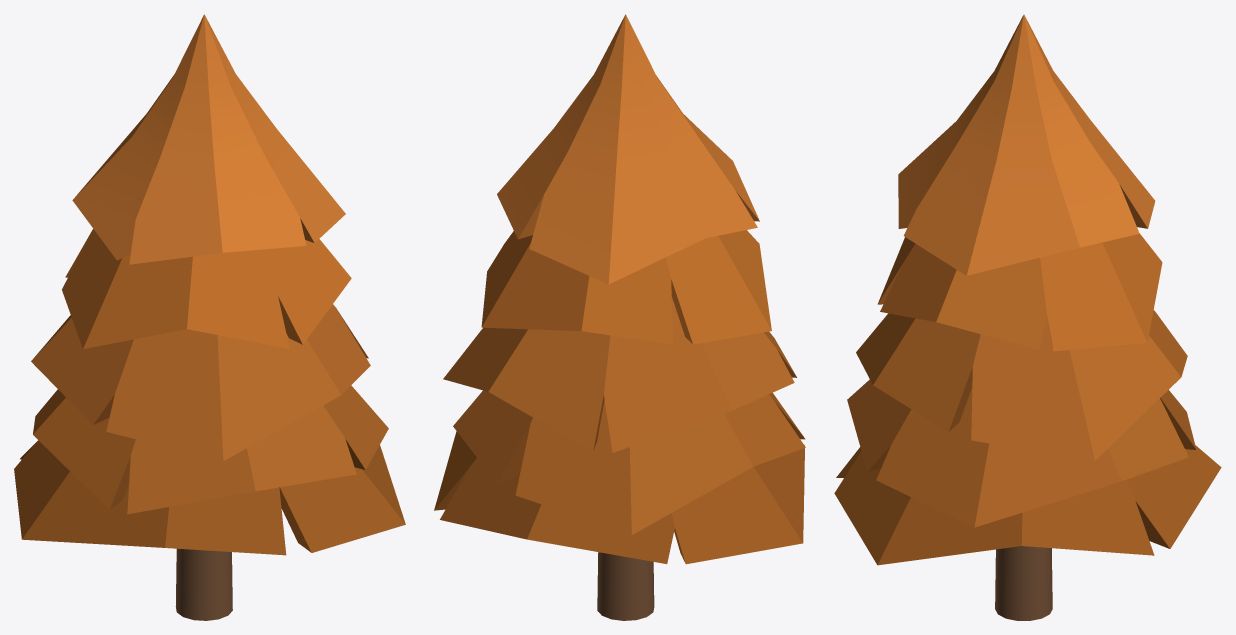
File: Spruce_Orange_Thick_3.fbx
The picture shows the model from 3 angles, left to right: view 1: azimuth 30°, elevation 25°; view 2: azimuth 150°, elevation 25°; view 3: azimuth 270°, elevation 25°; orthographic projection.
Visible parts, largest first — view 1: Cylinder.429, Cylinder.428, Cylinder.427, Cylinder.425, Cylinder.426, Cylinder.424; view 2: Cylinder.429, Cylinder.428, Cylinder.426, Cylinder.427, Cylinder.425, Cylinder.424; view 3: Cylinder.429, Cylinder.428, Cylinder.426, Cylinder.427, Cylinder.425, Cylinder.424.
Boxes of the visible parts, x1,y1,x2,y2 form: Cylinder.429: [72, 14, 345, 264]; Cylinder.428: [31, 304, 370, 461]; Cylinder.427: [62, 229, 351, 349]; Cylinder.425: [14, 440, 405, 555]; Cylinder.426: [33, 385, 388, 514]; Cylinder.424: [175, 548, 232, 620]; Cylinder.429: [497, 14, 759, 284]; Cylinder.428: [443, 296, 796, 452]; Cylinder.426: [453, 390, 805, 535]; Cylinder.427: [481, 230, 771, 344]; Cylinder.425: [434, 431, 804, 564]; Cylinder.424: [597, 552, 654, 620]; Cylinder.429: [898, 14, 1155, 275]; Cylinder.428: [856, 310, 1187, 460]; Cylinder.426: [847, 379, 1196, 527]; Cylinder.427: [877, 233, 1162, 351]; Cylinder.425: [834, 445, 1221, 565]; Cylinder.424: [995, 546, 1052, 620].
Size of the model in its own units: 347 by 567 by 334.
